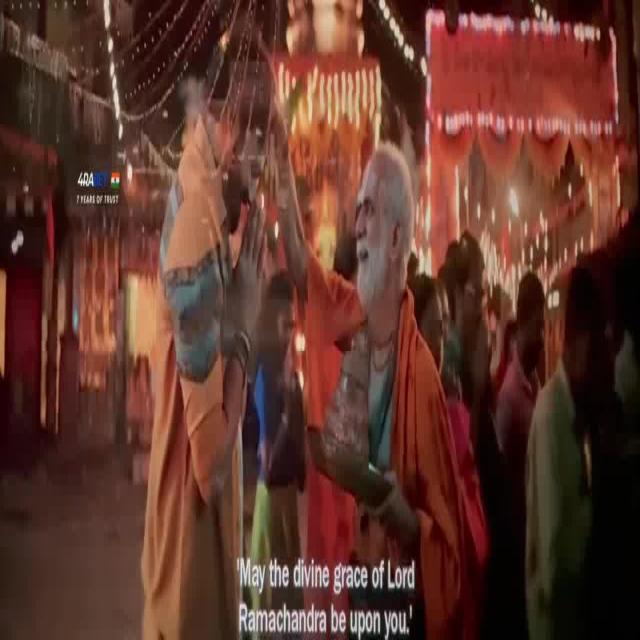4rabet: (73, 160, 126, 218)
